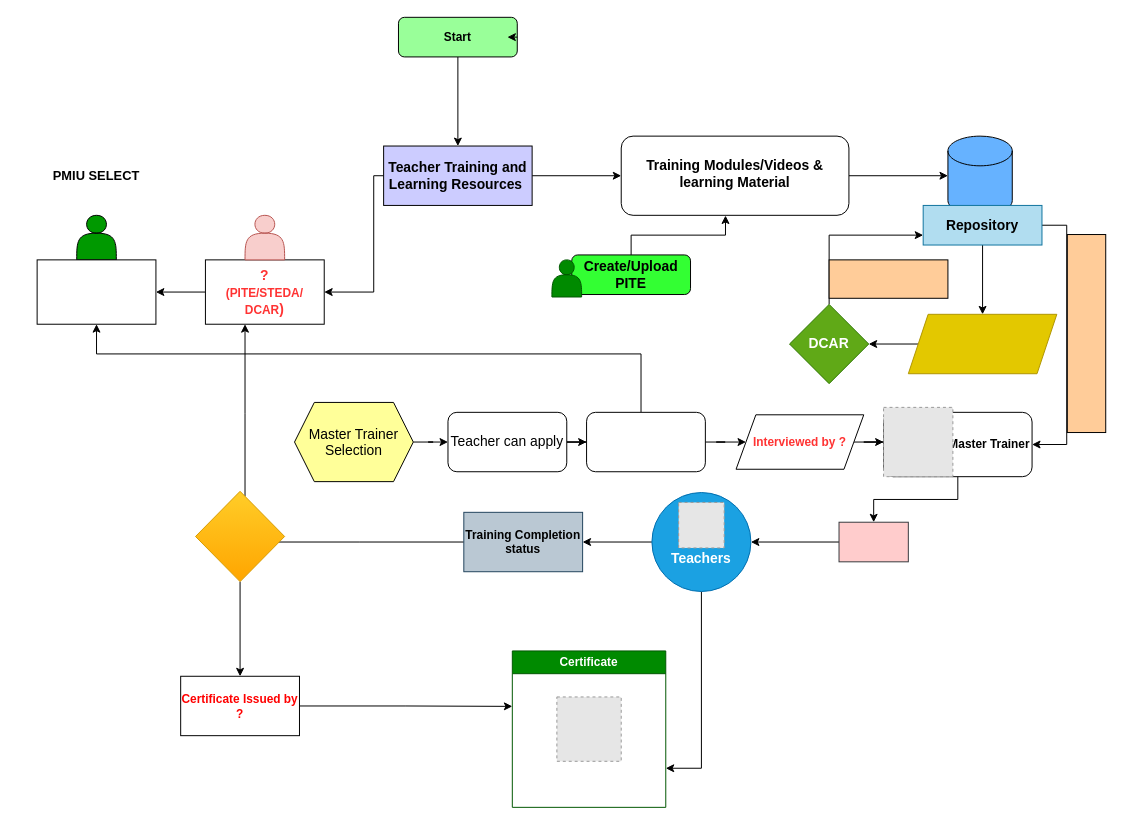
Image size: 1123x825. Some labels were removed from this diagram. Grey dashed boxes stand in for pictures. Each missing label, with the centre of its shape:
"After review approved update on same" goes at point 888,278.
"DB" goes at point 979,175.
"Master Trainers access repository and complete trainings" goes at point 1086,333.
"MT will Trained to" goes at point 873,541.
"PMIU" goes at point 96,291.
"Review & Verified by" goes at point 240,536.
"Reviewed/Verified by" goes at point 982,343.
"Short Listing" goes at point 645,441.
